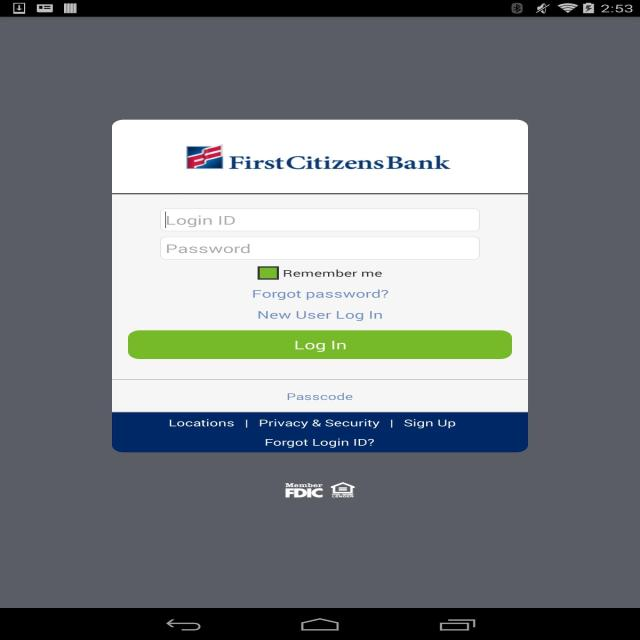button: (127, 330, 513, 360), (248, 413, 390, 435), (250, 437, 390, 451), (157, 413, 245, 434), (391, 414, 472, 435), (256, 264, 281, 281)
field: (161, 206, 480, 233), (157, 237, 485, 260)
heading: (230, 150, 458, 175)
image: (183, 144, 225, 172)
label: (161, 208, 239, 230), (160, 242, 253, 256)
link: (253, 308, 387, 322), (250, 288, 392, 300), (285, 390, 358, 402)
text: (257, 417, 382, 431), (259, 436, 379, 449), (276, 269, 389, 278), (167, 417, 236, 430), (401, 418, 461, 428)
